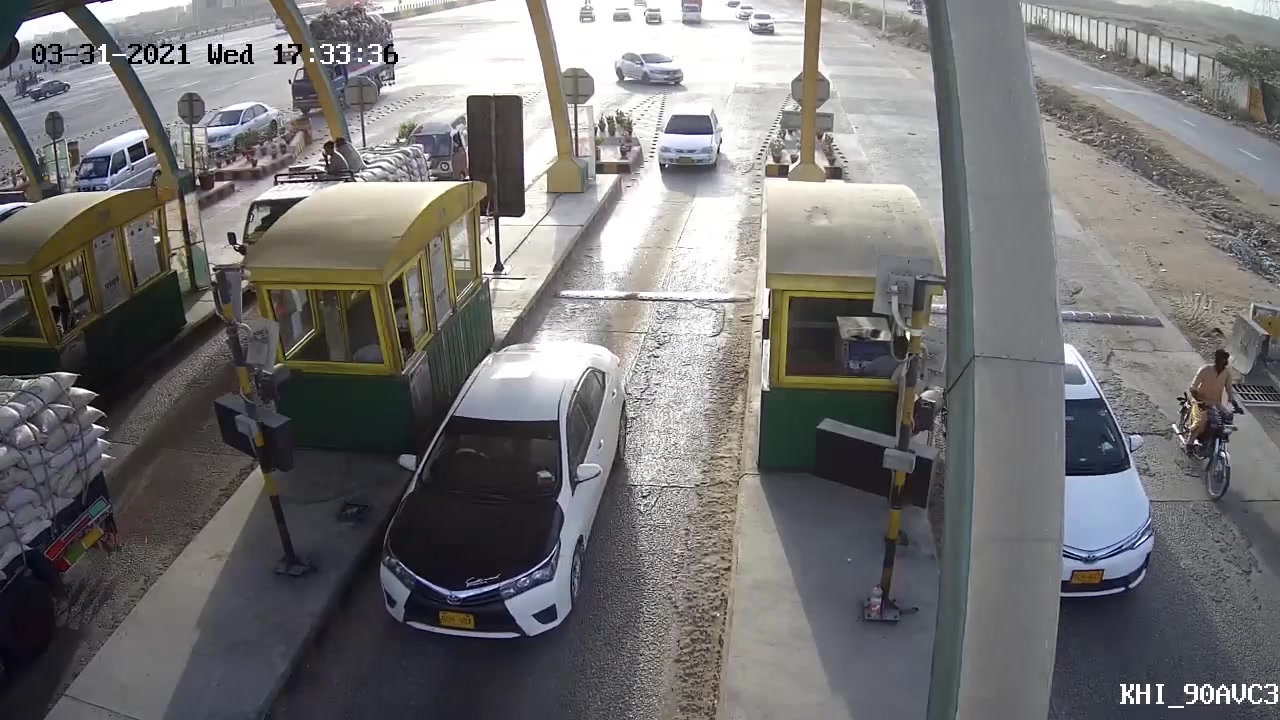F1: (376, 331, 613, 678)
